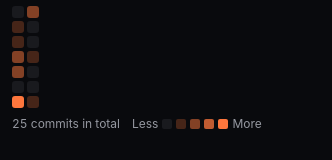
Test: HeatmapCalendar › reads a day on hover and returns to the total
The image size is (332, 160).
Step 1. Hover over the button named "Day 7: 8 commits" → [18, 102], box [12, 96, 24, 108]
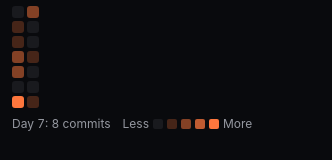
Expected: the text "Day 7: 8 commits" is shown, [12, 116, 110, 132]
Step 2. Move the pointer off the button named "Day 7: 8 commits", box [12, 96, 24, 108]
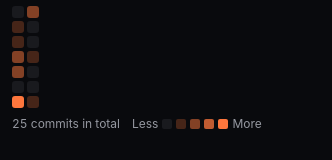
Expected: the text "25 commits in total" is shown, [12, 116, 120, 132]
